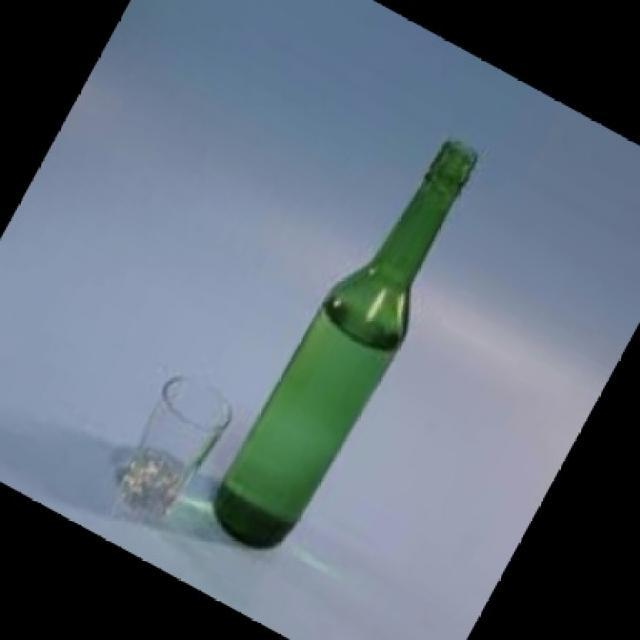Glass: (211, 140, 480, 550), (119, 374, 232, 526)
